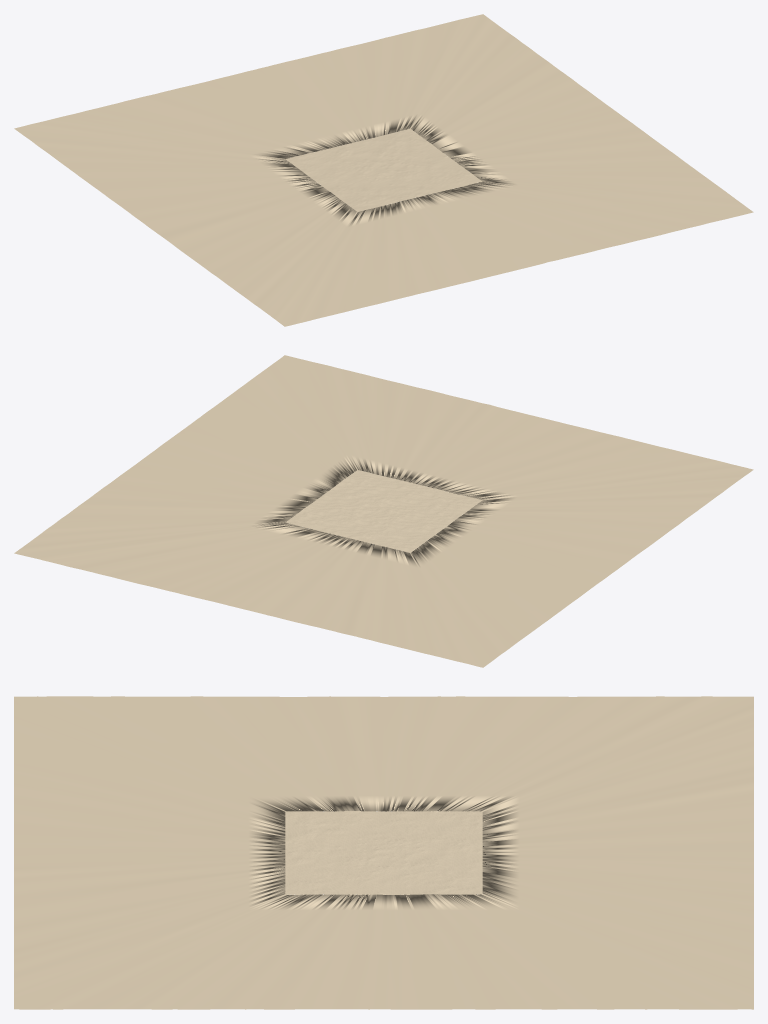
Rendered from seafloor.glb.
3 views of the same model, one above another, from view 1: azimuth 30°, elevation 25°; view 2: azimuth 150°, elevation 25°; view 3: azimuth 270°, elevation 25° (orthographic). The views are drawn at different scales.
Visible parts, largest first — view 1: Seafloor_Skirt_600m, Seafloor_160m; view 2: Seafloor_Skirt_600m, Seafloor_160m; view 3: Seafloor_Skirt_600m, Seafloor_160m.
Part boxes in pixels (x1,y1,x2,y2): Seafloor_Skirt_600m: [14, 14, 753, 326]; Seafloor_160m: [285, 128, 482, 211]; Seafloor_Skirt_600m: [14, 355, 753, 667]; Seafloor_160m: [285, 470, 481, 552]; Seafloor_Skirt_600m: [14, 696, 753, 1009]; Seafloor_160m: [285, 811, 482, 894].
Size of the model in its own units: 600 by 0.744 by 600.
